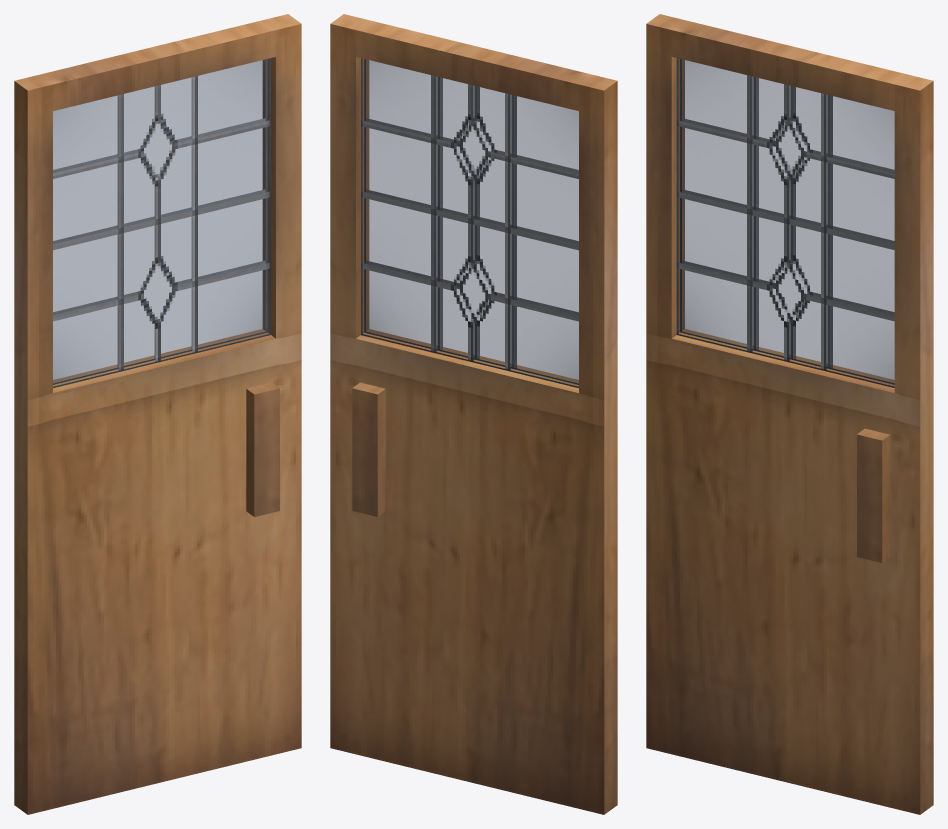
File: Drzwi.gltf
3 views of the same model, side by side, from view 1: azimuth 30°, elevation 25°; view 2: azimuth 150°, elevation 25°; view 3: azimuth 330°, elevation 25° (orthographic).
Parts seen in each view (by area): view 1: Drzwi02; view 2: Drzwi02; view 3: Drzwi02.
Boxes of the visible parts, x1,y1,x2,y2 form: Drzwi02: [14, 14, 301, 814]; Drzwi02: [330, 14, 617, 814]; Drzwi02: [646, 14, 933, 814].
Bounding box in the file's own units: 0.7867 × 1.99 × 0.1464.
Materials: 1 (1 with a texture image).
